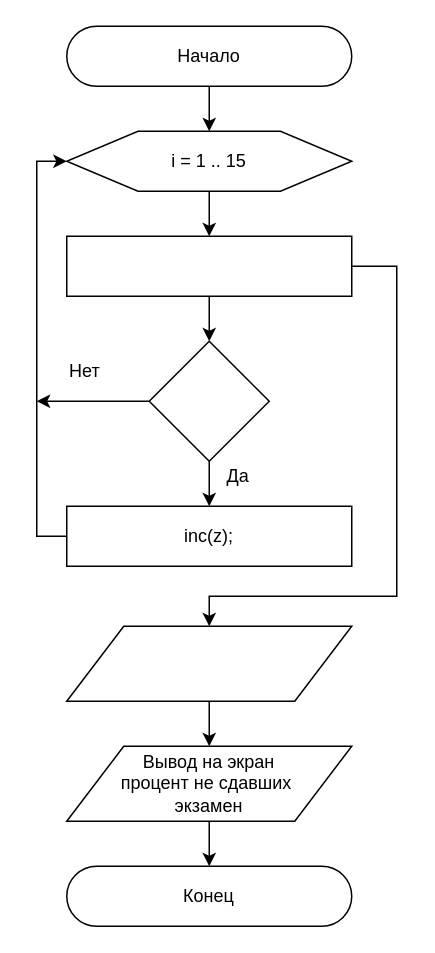
Some shapes in this 435 by 953 pixel diagram are drawn without their labels. Each missing label, with the box of its shape:
A[i] < 1: (148, 340, 269, 461)
A[i]:= random(0,1): (65, 235, 352, 296)
Вывод на экран сколько человек не сдали: (65, 625, 352, 701)
